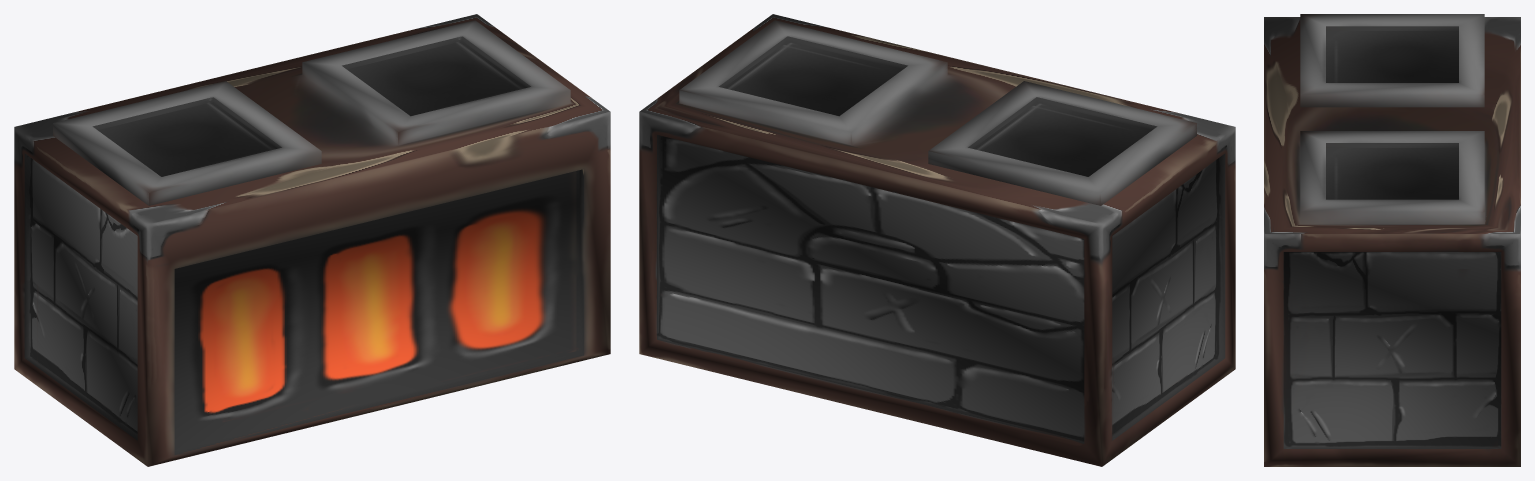
The model's file is Furnace_1_Floor.fbx.
The picture shows the model from 3 angles, left to right: view 1: azimuth 30°, elevation 25°; view 2: azimuth 150°, elevation 25°; view 3: azimuth 270°, elevation 25°; orthographic projection. The views are drawn at different scales.
Visible parts, largest first — view 1: Furnace_1; view 2: Furnace_1; view 3: Furnace_1.
Boxes of the visible parts, x1,y1,x2,y2 form: Furnace_1: [14, 14, 610, 466]; Furnace_1: [639, 14, 1235, 466]; Furnace_1: [1264, 14, 1520, 466].
Size of the model in its own units: 400 by 211 by 200.
